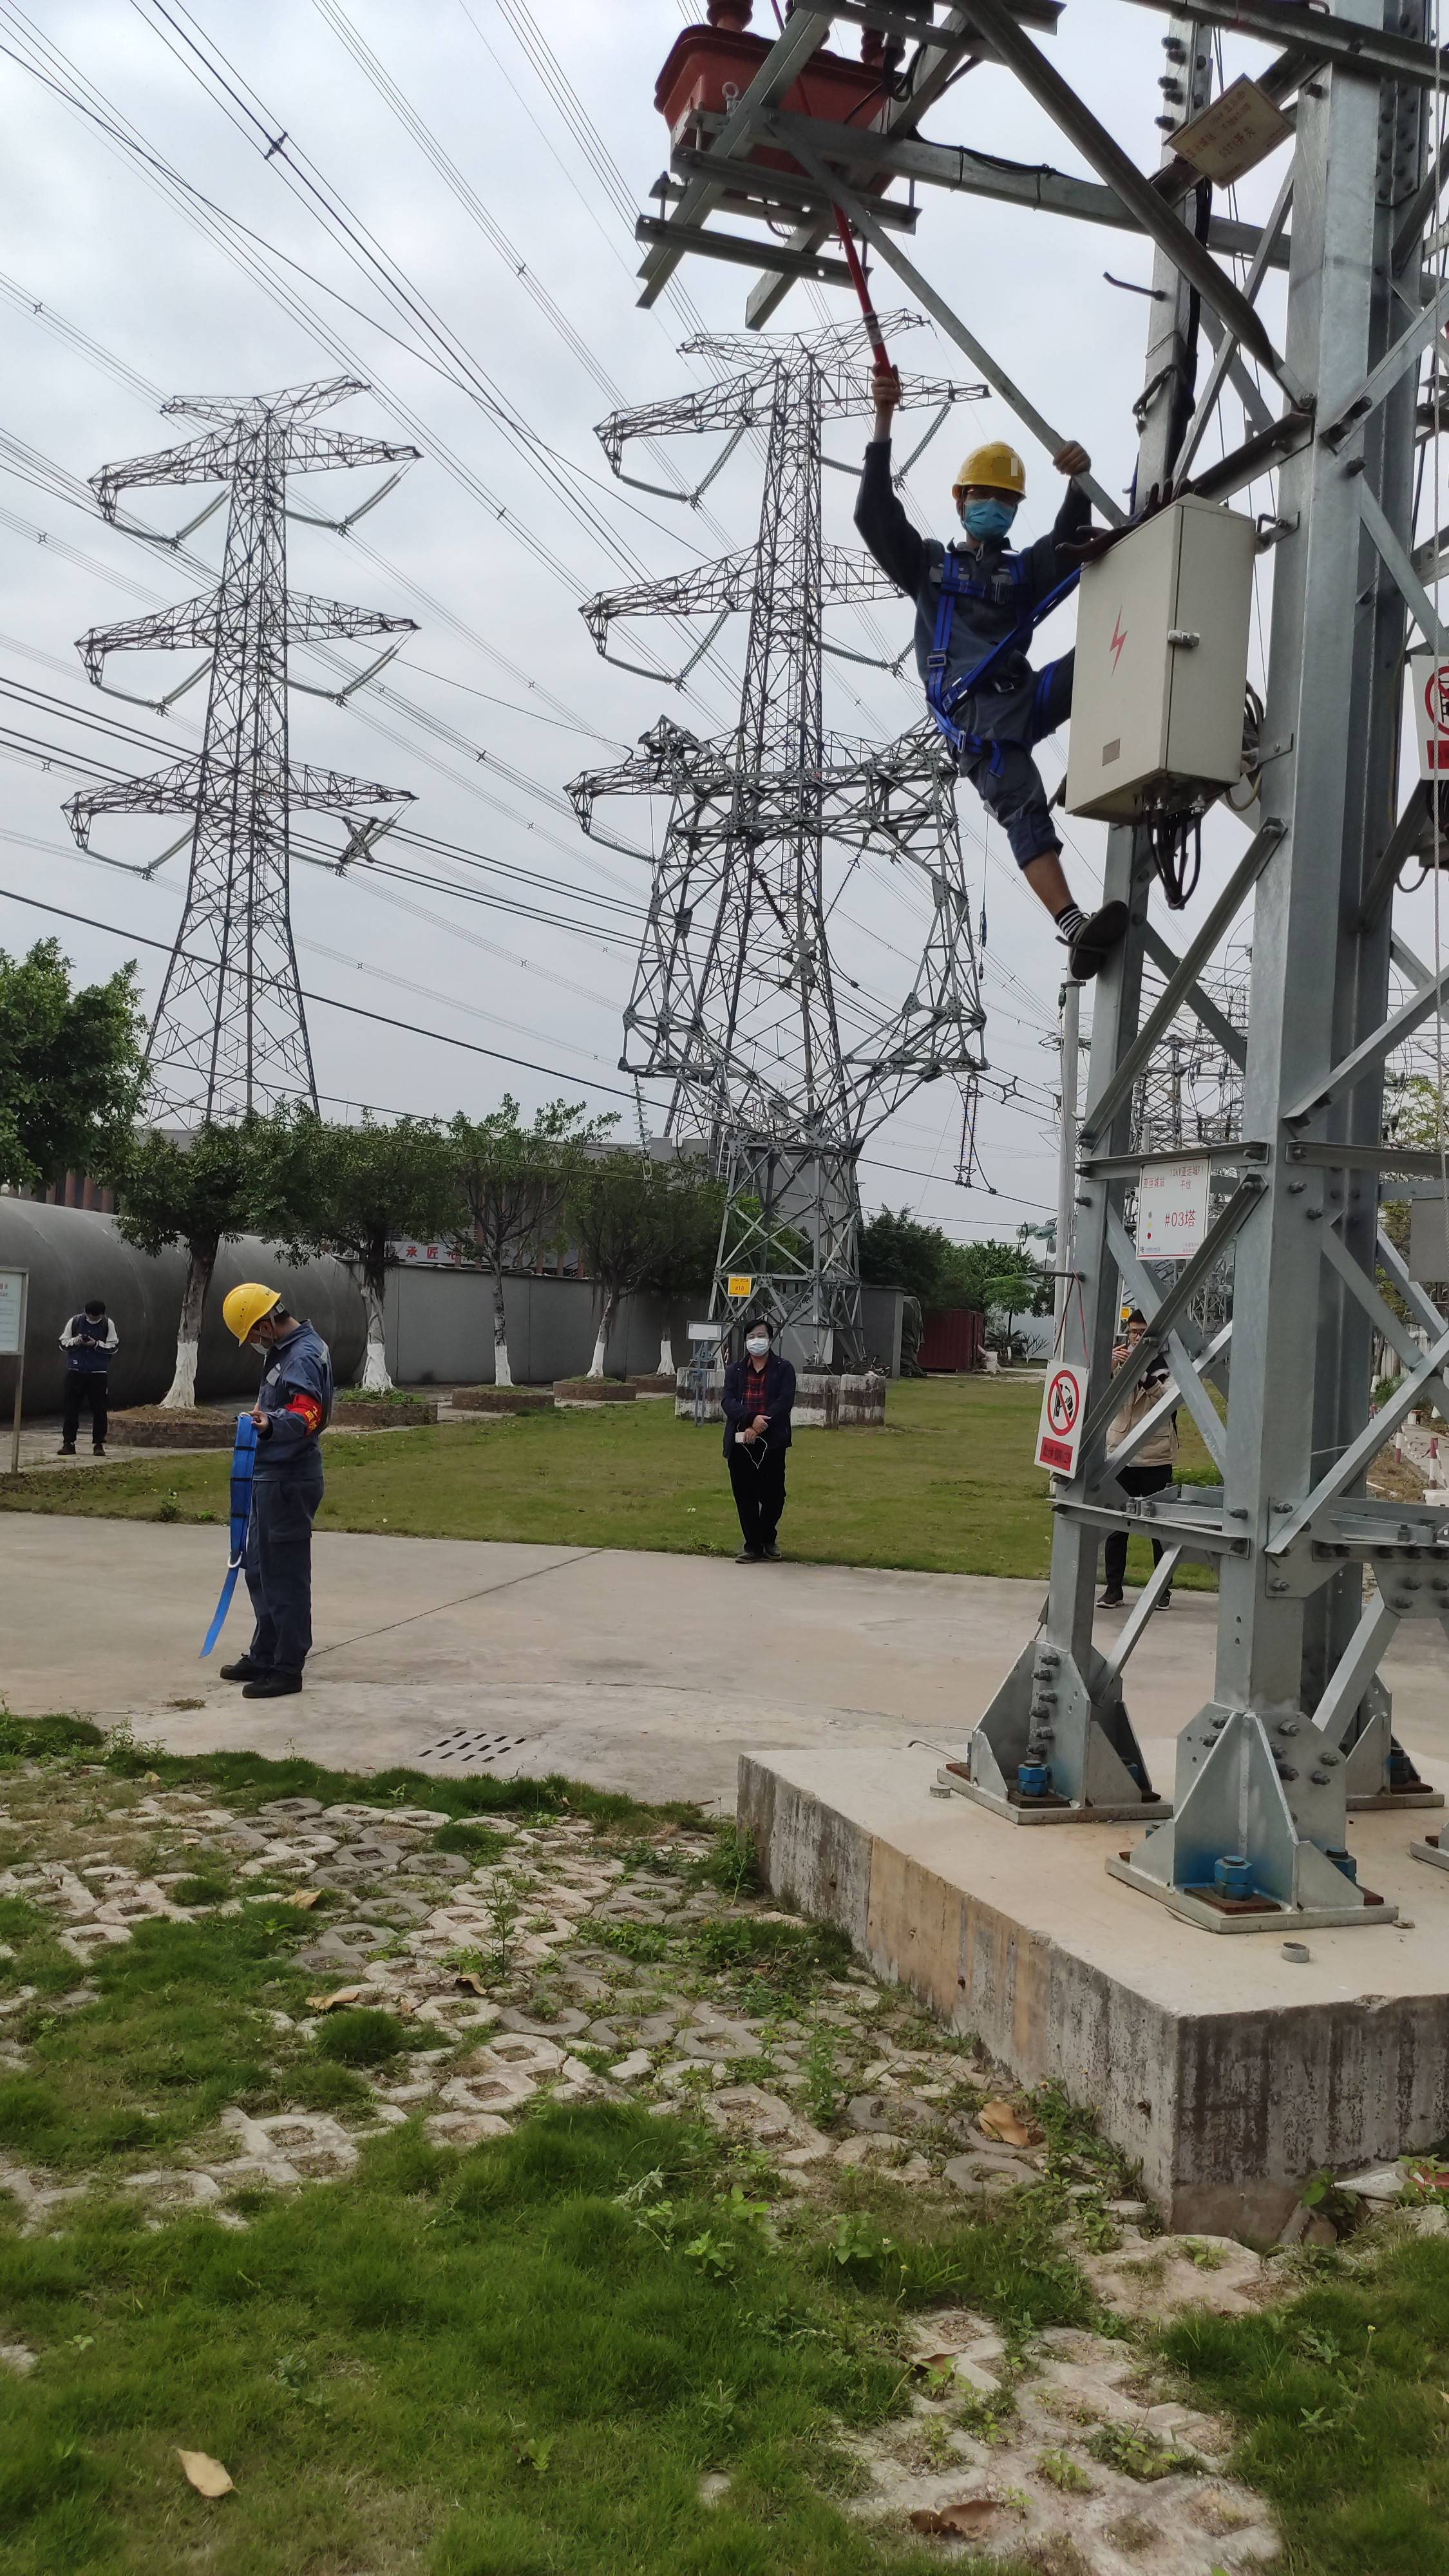downcloth: (725, 1437, 793, 1562), (58, 1378, 111, 1453)
downsuit: (954, 694, 1085, 950), (239, 1483, 324, 1679)
upcloth: (722, 1353, 798, 1435), (58, 1316, 122, 1373)
upsuit: (863, 541, 1056, 692), (249, 1350, 336, 1479)
wrongbottom: (1017, 832, 1088, 939)
